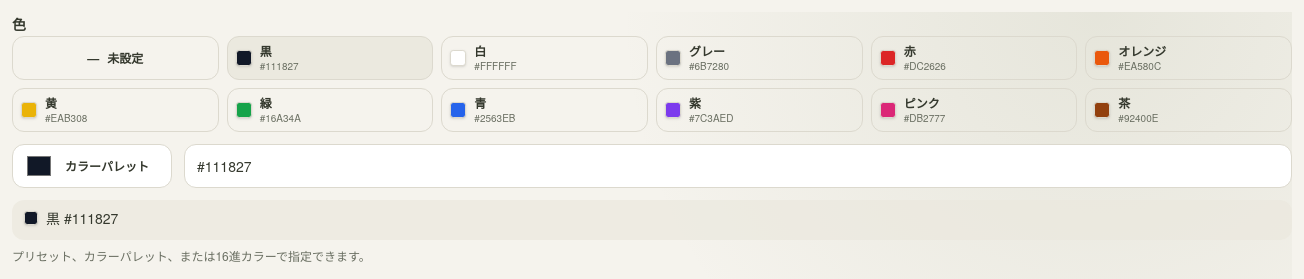
Test: ItemColorField › accepts a custom color and allows returning to unset
Replace the text in the field named "16進カラー" with "#123456". click: (738, 166)
box: [184, 144, 1292, 188]
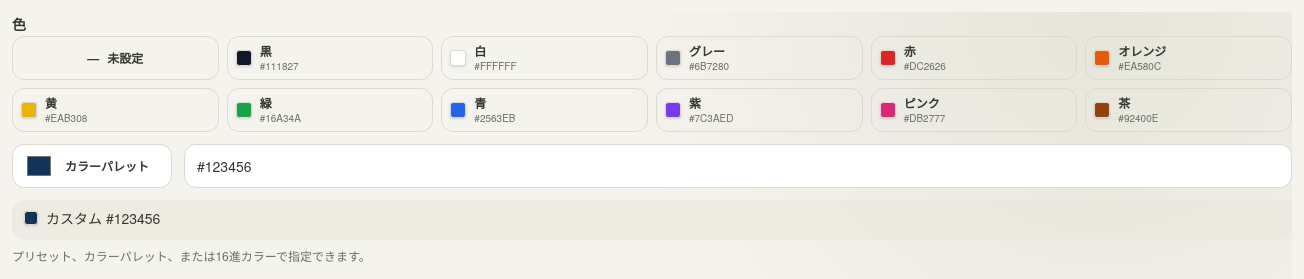
Expected: the text "カスタム #123456" is shown, [46, 208, 160, 228]
Click the button with aria-label "色を未設定にする". click: (115, 58)
box: [12, 36, 219, 80]
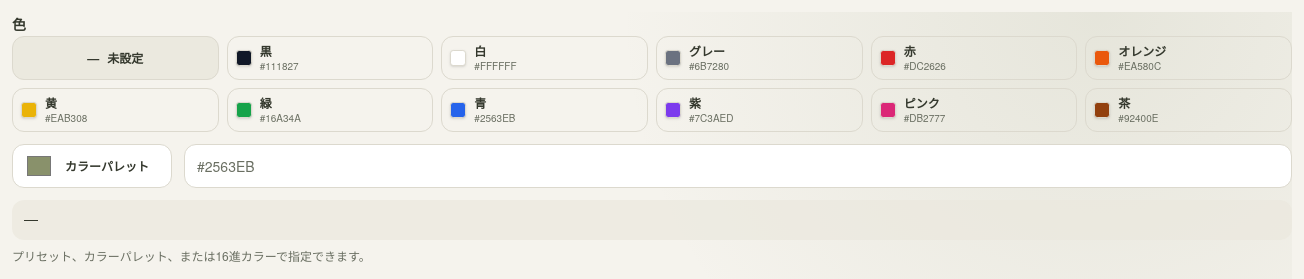
Expected: the field named "16進カラー" is empty, [184, 144, 1292, 188]
Expected: the 2nd text "—" is shown, [24, 208, 38, 228]
